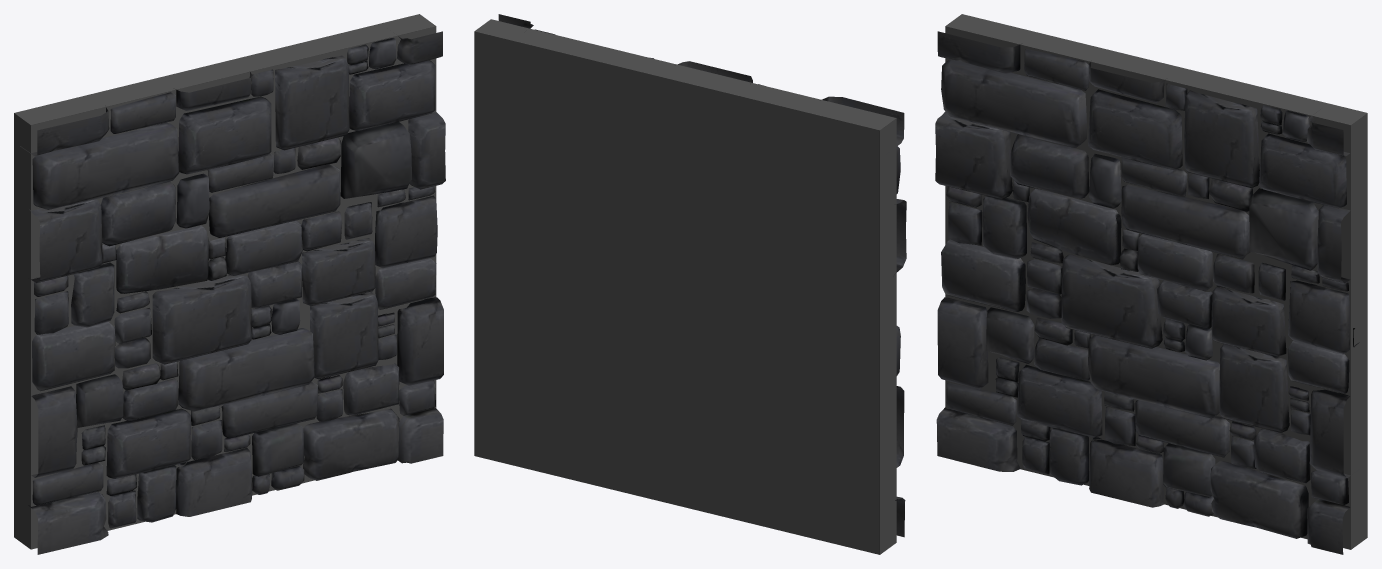
The model's file is Wall_04.fbx.
The picture shows the model from 3 angles, left to right: view 1: azimuth 30°, elevation 25°; view 2: azimuth 150°, elevation 25°; view 3: azimuth 330°, elevation 25°; orthographic projection.
Visible parts, largest first — view 1: Wall_Plain.002_Baked; view 2: Wall_Plain.002_Baked; view 3: Wall_Plain.002_Baked.
Part boxes in pixels (bbox=[...]): Wall_Plain.002_Baked: bbox=[14, 14, 445, 554]; Wall_Plain.002_Baked: bbox=[474, 14, 906, 554]; Wall_Plain.002_Baked: bbox=[935, 14, 1367, 554].
Bounding box in the file's own units: 302 × 300 × 34.44.
1 material, 1 textured.
